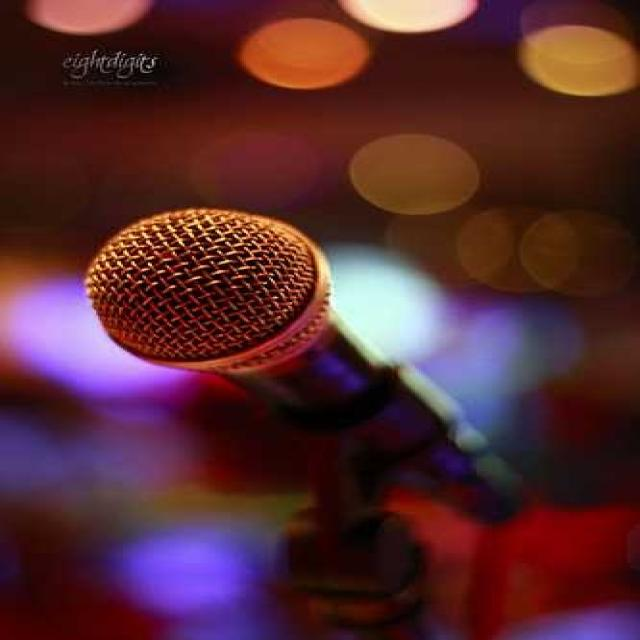microphone: (90, 209, 504, 503)
